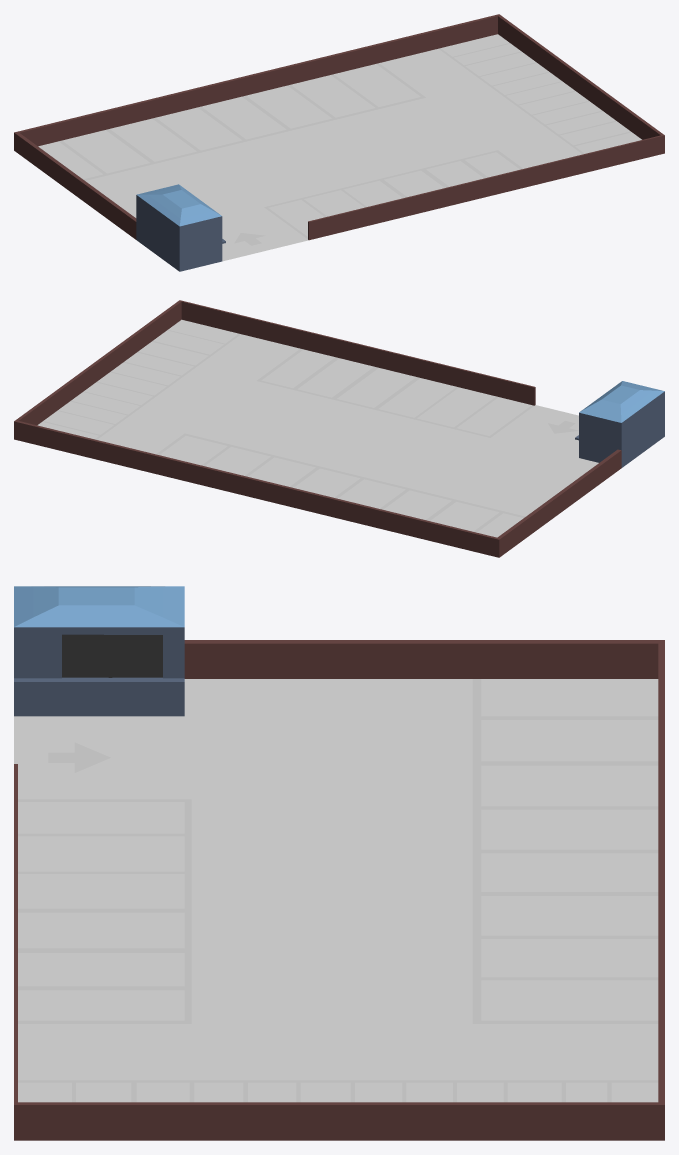
Rendered from 駐車場_ver1_0914.fbx.
3 renders of one model, top to bottom at view 1: azimuth 30°, elevation 25°; view 2: azimuth 150°, elevation 25°; view 3: azimuth 270°, elevation 25°, orthographic. The views are drawn at different scales.
Visible parts, largest first — view 1: 平面; view 2: 平面; view 3: 平面.
Boxes of the visible parts, x1=… form: 平面: x1=14, y1=14, x2=664, y2=271; 平面: x1=14, y1=300, x2=664, y2=557; 平面: x1=14, y1=586, x2=664, y2=1140.
Bounding box in the file's own units: 1531 × 155 × 906.
